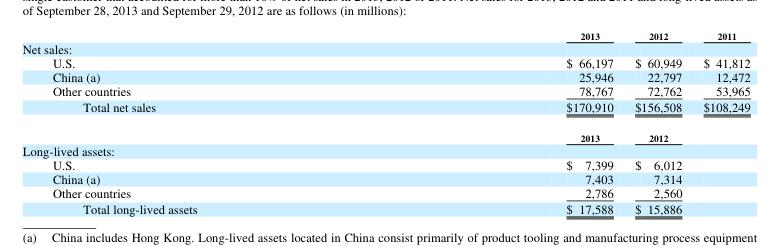table: (21, 29, 749, 216)
table column: (21, 29, 381, 216), (381, 29, 623, 216), (623, 29, 692, 216), (692, 29, 749, 216)
table column header: (21, 29, 749, 41)
table projected row header: (21, 41, 749, 55), (21, 142, 749, 156)
table row: (21, 97, 749, 122), (21, 122, 749, 142), (21, 199, 749, 216), (21, 82, 749, 97), (21, 184, 749, 199), (21, 41, 749, 55), (21, 68, 749, 82), (21, 142, 749, 156), (21, 156, 749, 170), (21, 170, 749, 184), (21, 55, 749, 68), (21, 29, 749, 41)
